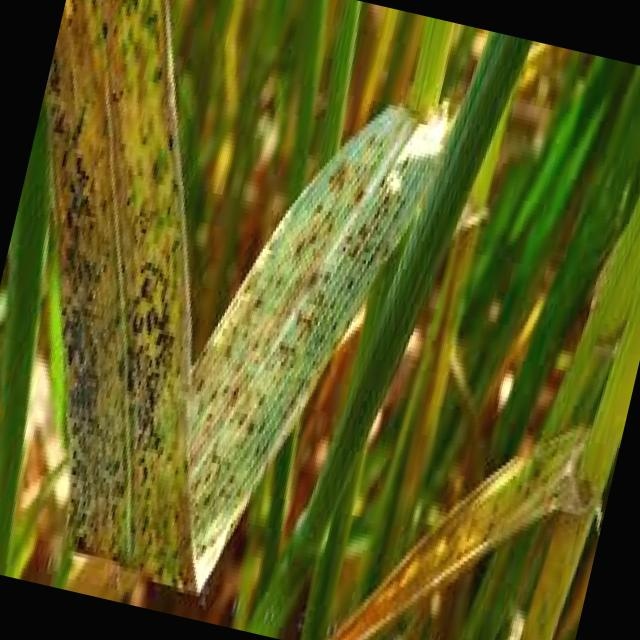leaf_blight: (44, 0, 447, 588), (332, 428, 596, 640)
